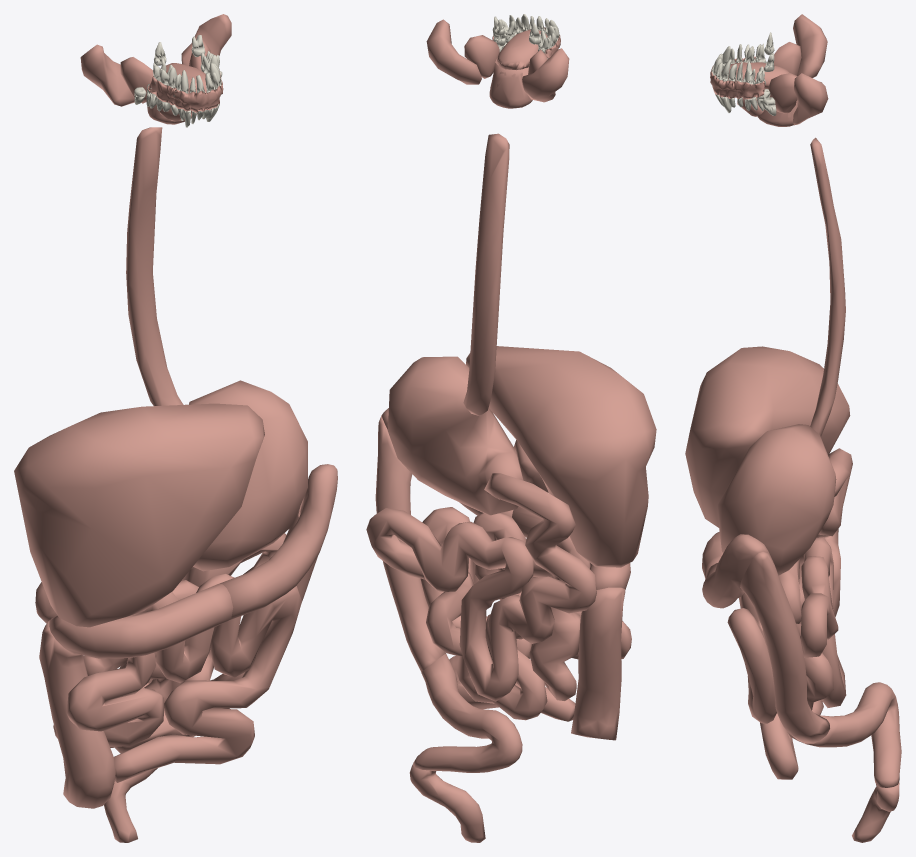
Rendered from pediatric_adolescent_male.digestive.LOD2.glb.
3 renders of one model, left to right at view 1: azimuth 30°, elevation 25°; view 2: azimuth 150°, elevation 25°; view 3: azimuth 270°, elevation 25°, orthographic. The views are drawn at different scales.
Parts seen in each view (by area): view 1: PEDIATRIC.ADOLESCENT.MALE.DIGESTIVE.LIVER, PEDIATRIC.ADOLESCENT.MALE.DIGESTIVE.SMALL_INTESTINE_WALL, PEDIATRIC.ADOLESCENT.MALE.DIGESTIVE.STOMACH_WALL, PEDIATRIC.ADOLESCENT.MALE.DIGESTIVE.OESOPHAGUS_WALL, PEDIATRIC.ADOLESCENT.MALE.DIGESTIVE.TRANSVERSE_COLON_WALL.R, PEDIATRIC.ADOLESCENT.MALE.DIGESTIVE.ASCENDING_COLON_WALL, PEDIATRIC.ADOLESCENT.MALE.DIGESTIVE.TRANSVERSE_COLON_WALL.L, PEDIATRIC.ADOLESCENT.MALE.DIGESTIVE.SALIVARY_GLANDS.R, PEDIATRIC.ADOLESCENT.MALE.DIGESTIVE.PERMANENT_CEMENTUM, PEDIATRIC.ADOLESCENT.MALE.DIGESTIVE.RECTUM_WALL, PEDIATRIC.ADOLESCENT.MALE.DIGESTIVE.ORAL_MUCOSA_LIP_AND_CHEE, PEDIATRIC.ADOLESCENT.MALE.DIGESTIVE.SALIVARY_GLANDS.L; view 2: PEDIATRIC.ADOLESCENT.MALE.DIGESTIVE.SMALL_INTESTINE_WALL, PEDIATRIC.ADOLESCENT.MALE.DIGESTIVE.LIVER, PEDIATRIC.ADOLESCENT.MALE.DIGESTIVE.STOMACH_WALL, PEDIATRIC.ADOLESCENT.MALE.DIGESTIVE.OESOPHAGUS_WALL, PEDIATRIC.ADOLESCENT.MALE.DIGESTIVE.ASCENDING_COLON_WALL, PEDIATRIC.ADOLESCENT.MALE.DIGESTIVE.SIGMOID_COLON_WALL, PEDIATRIC.ADOLESCENT.MALE.DIGESTIVE.DESCENDING_COLON_WALL, PEDIATRIC.ADOLESCENT.MALE.DIGESTIVE.SALIVARY_GLANDS.L, PEDIATRIC.ADOLESCENT.MALE.DIGESTIVE.RECTUM_WALL, PEDIATRIC.ADOLESCENT.MALE.DIGESTIVE.SALIVARY_GLANDS.R, PEDIATRIC.ADOLESCENT.MALE.DIGESTIVE.TONGUE_LOWER, PEDIATRIC.ADOLESCENT.MALE.DIGESTIVE.TRANSVERSE_COLON_WALL.R (+3 smaller); view 3: PEDIATRIC.ADOLESCENT.MALE.DIGESTIVE.LIVER, PEDIATRIC.ADOLESCENT.MALE.DIGESTIVE.SMALL_INTESTINE_WALL, PEDIATRIC.ADOLESCENT.MALE.DIGESTIVE.STOMACH_WALL, PEDIATRIC.ADOLESCENT.MALE.DIGESTIVE.DESCENDING_COLON_WALL, PEDIATRIC.ADOLESCENT.MALE.DIGESTIVE.SIGMOID_COLON_WALL, PEDIATRIC.ADOLESCENT.MALE.DIGESTIVE.OESOPHAGUS_WALL, PEDIATRIC.ADOLESCENT.MALE.DIGESTIVE.TRANSVERSE_COLON_WALL.L, PEDIATRIC.ADOLESCENT.MALE.DIGESTIVE.SALIVARY_GLANDS.L, PEDIATRIC.ADOLESCENT.MALE.DIGESTIVE.SALIVARY_GLANDS.R, PEDIATRIC.ADOLESCENT.MALE.DIGESTIVE.PERMANENT_CEMENTUM, PEDIATRIC.ADOLESCENT.MALE.DIGESTIVE.RECTUM_WALL, PEDIATRIC.ADOLESCENT.MALE.DIGESTIVE.ORAL_MUCOSA_LIP_AND_CHEE (+3 smaller).
Part boxes in pixels (bbox=[...]): PEDIATRIC.ADOLESCENT.MALE.DIGESTIVE.LIVER: bbox=[14, 403, 264, 627]; PEDIATRIC.ADOLESCENT.MALE.DIGESTIVE.SMALL_INTESTINE_WALL: bbox=[35, 533, 301, 782]; PEDIATRIC.ADOLESCENT.MALE.DIGESTIVE.STOMACH_WALL: bbox=[189, 380, 307, 571]; PEDIATRIC.ADOLESCENT.MALE.DIGESTIVE.OESOPHAGUS_WALL: bbox=[126, 127, 183, 405]; PEDIATRIC.ADOLESCENT.MALE.DIGESTIVE.TRANSVERSE_COLON_WALL.R: bbox=[49, 583, 233, 658]; PEDIATRIC.ADOLESCENT.MALE.DIGESTIVE.ASCENDING_COLON_WALL: bbox=[39, 621, 115, 808]; PEDIATRIC.ADOLESCENT.MALE.DIGESTIVE.TRANSVERSE_COLON_WALL.L: bbox=[220, 464, 337, 620]; PEDIATRIC.ADOLESCENT.MALE.DIGESTIVE.SALIVARY_GLANDS.R: bbox=[80, 44, 191, 121]; PEDIATRIC.ADOLESCENT.MALE.DIGESTIVE.PERMANENT_CEMENTUM: bbox=[134, 35, 221, 127]; PEDIATRIC.ADOLESCENT.MALE.DIGESTIVE.RECTUM_WALL: bbox=[104, 768, 157, 842]; PEDIATRIC.ADOLESCENT.MALE.DIGESTIVE.ORAL_MUCOSA_LIP_AND_CHEE: bbox=[147, 71, 223, 112]; PEDIATRIC.ADOLESCENT.MALE.DIGESTIVE.SALIVARY_GLANDS.L: bbox=[181, 14, 231, 115]; PEDIATRIC.ADOLESCENT.MALE.DIGESTIVE.SMALL_INTESTINE_WALL: bbox=[366, 473, 631, 721]; PEDIATRIC.ADOLESCENT.MALE.DIGESTIVE.LIVER: bbox=[466, 346, 656, 567]; PEDIATRIC.ADOLESCENT.MALE.DIGESTIVE.STOMACH_WALL: bbox=[387, 356, 523, 515]; PEDIATRIC.ADOLESCENT.MALE.DIGESTIVE.OESOPHAGUS_WALL: bbox=[463, 133, 509, 415]; PEDIATRIC.ADOLESCENT.MALE.DIGESTIVE.ASCENDING_COLON_WALL: bbox=[571, 587, 625, 740]; PEDIATRIC.ADOLESCENT.MALE.DIGESTIVE.SIGMOID_COLON_WALL: bbox=[413, 653, 522, 772]; PEDIATRIC.ADOLESCENT.MALE.DIGESTIVE.DESCENDING_COLON_WALL: bbox=[375, 415, 445, 671]; PEDIATRIC.ADOLESCENT.MALE.DIGESTIVE.SALIVARY_GLANDS.L: bbox=[426, 19, 499, 84]; PEDIATRIC.ADOLESCENT.MALE.DIGESTIVE.RECTUM_WALL: bbox=[409, 762, 485, 842]; PEDIATRIC.ADOLESCENT.MALE.DIGESTIVE.SALIVARY_GLANDS.R: bbox=[522, 48, 569, 102]; PEDIATRIC.ADOLESCENT.MALE.DIGESTIVE.TONGUE_LOWER: bbox=[489, 63, 532, 108]; PEDIATRIC.ADOLESCENT.MALE.DIGESTIVE.TRANSVERSE_COLON_WALL.R: bbox=[512, 506, 630, 589]; PEDIATRIC.ADOLESCENT.MALE.DIGESTIVE.LIVER: bbox=[685, 346, 850, 527]; PEDIATRIC.ADOLESCENT.MALE.DIGESTIVE.SMALL_INTESTINE_WALL: bbox=[727, 448, 852, 779]; PEDIATRIC.ADOLESCENT.MALE.DIGESTIVE.STOMACH_WALL: bbox=[718, 424, 836, 575]; PEDIATRIC.ADOLESCENT.MALE.DIGESTIVE.DESCENDING_COLON_WALL: bbox=[740, 551, 829, 743]; PEDIATRIC.ADOLESCENT.MALE.DIGESTIVE.SIGMOID_COLON_WALL: bbox=[799, 682, 901, 787]; PEDIATRIC.ADOLESCENT.MALE.DIGESTIVE.OESOPHAGUS_WALL: bbox=[810, 137, 845, 436]; PEDIATRIC.ADOLESCENT.MALE.DIGESTIVE.TRANSVERSE_COLON_WALL.L: bbox=[702, 534, 769, 608]; PEDIATRIC.ADOLESCENT.MALE.DIGESTIVE.SALIVARY_GLANDS.L: bbox=[737, 73, 828, 125]; PEDIATRIC.ADOLESCENT.MALE.DIGESTIVE.SALIVARY_GLANDS.R: bbox=[774, 14, 827, 77]; PEDIATRIC.ADOLESCENT.MALE.DIGESTIVE.PERMANENT_CEMENTUM: bbox=[712, 32, 776, 115]; PEDIATRIC.ADOLESCENT.MALE.DIGESTIVE.RECTUM_WALL: bbox=[852, 782, 899, 842]; PEDIATRIC.ADOLESCENT.MALE.DIGESTIVE.ORAL_MUCOSA_LIP_AND_CHEE: bbox=[710, 56, 765, 99].
Size of the model in its own units: 0.2742 by 0.7318 by 0.1795.
